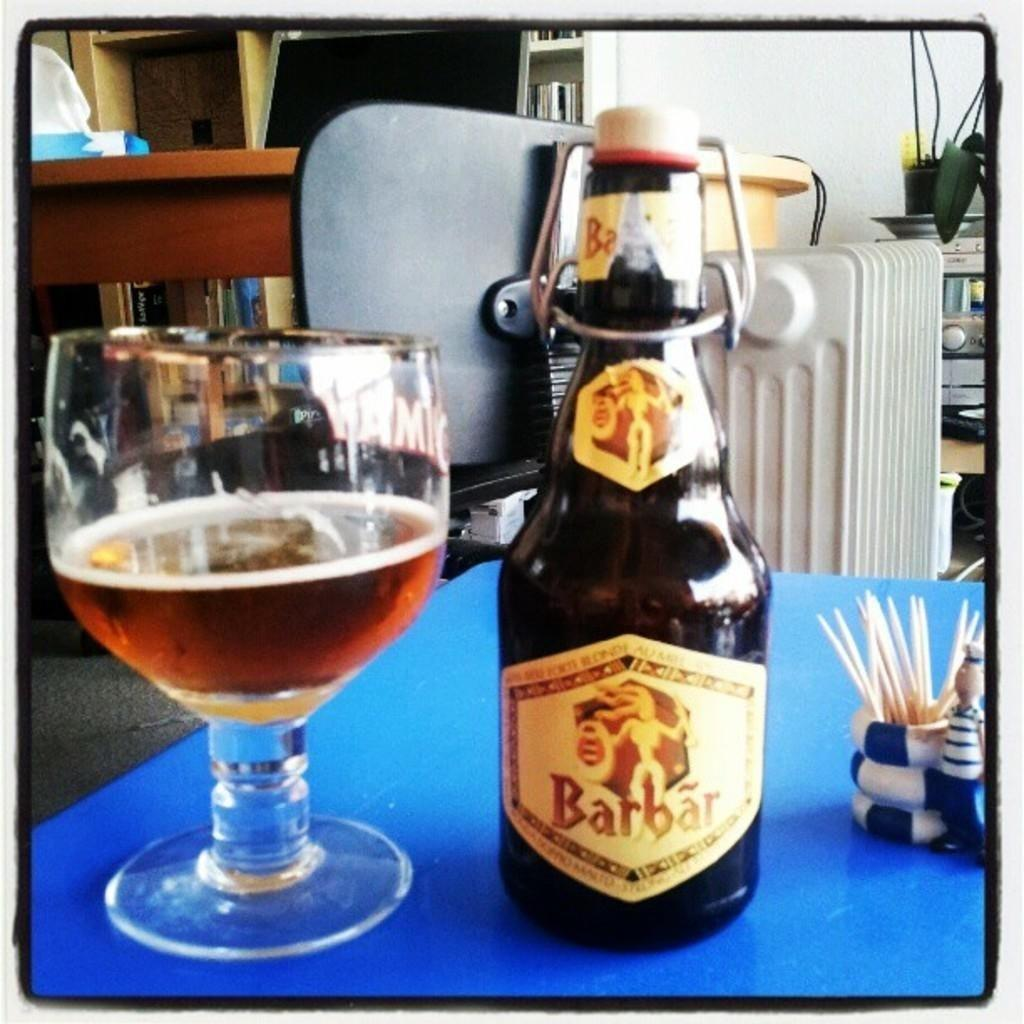bottle-glass: (496, 101, 773, 954)
glass-wine: (38, 319, 455, 955)
